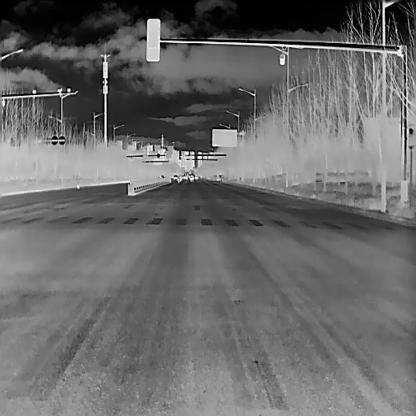car: (172, 173, 178, 180), (194, 173, 198, 179)
